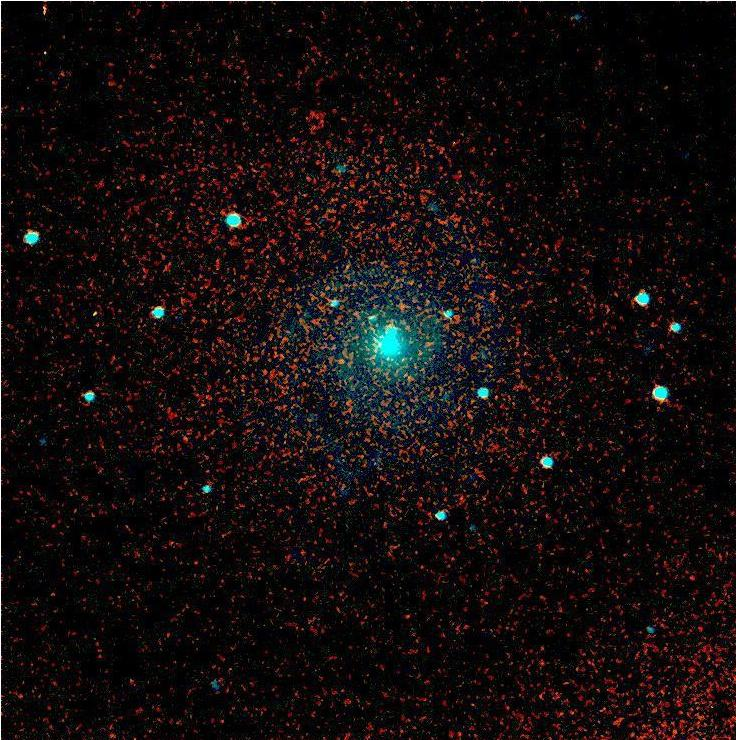star: (327, 352, 357, 382)
